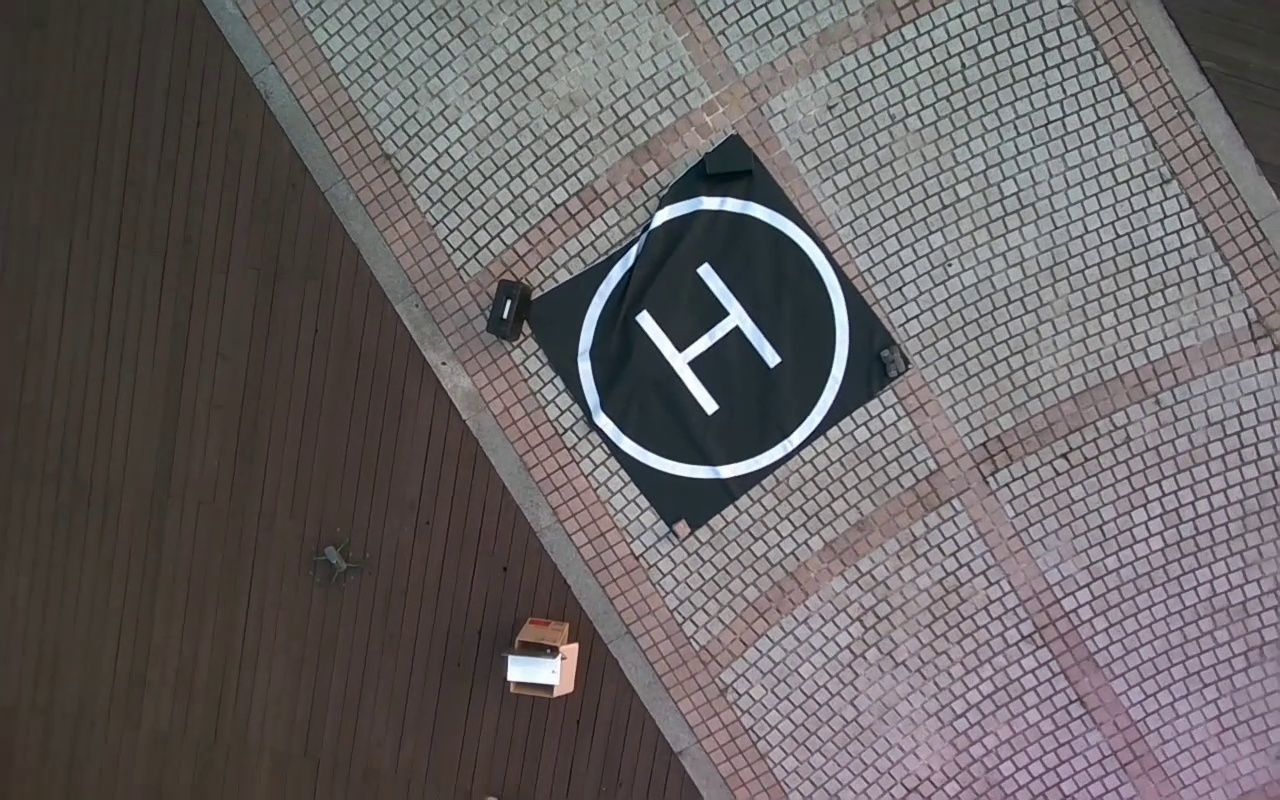H: (633, 257, 784, 415)
